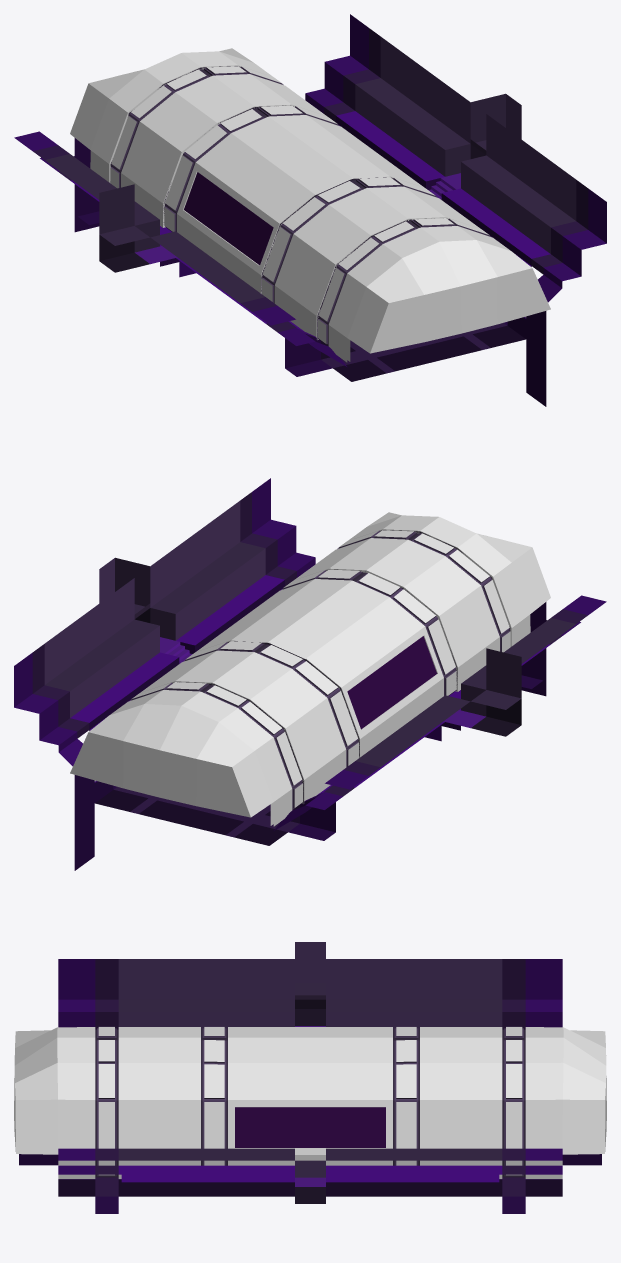
Rendered from stadium.glb.
3 renders of one model, top to bottom at view 1: azimuth 30°, elevation 25°; view 2: azimuth 150°, elevation 25°; view 3: azimuth 270°, elevation 25°, orthographic.
Parts seen in each view (by area): view 1: stadium.001, stadium; view 2: stadium.001, stadium; view 3: stadium.001, stadium.
Boxes of the visible parts, bbox=[...] form: stadium.001: bbox=[70, 48, 550, 362]; stadium: bbox=[14, 14, 606, 406]; stadium.001: bbox=[70, 512, 550, 826]; stadium: bbox=[14, 478, 606, 870]; stadium.001: bbox=[14, 1026, 606, 1178]; stadium: bbox=[19, 942, 601, 1213].
Size of what is drawn, in the model's own units: 92.52 by 37.53 by 119.
3 materials, 1 textured.
